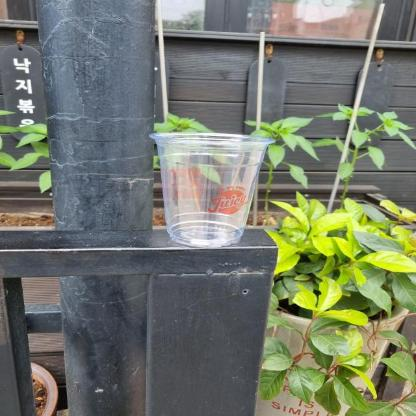Plastic Cup: (146, 129, 280, 249)
